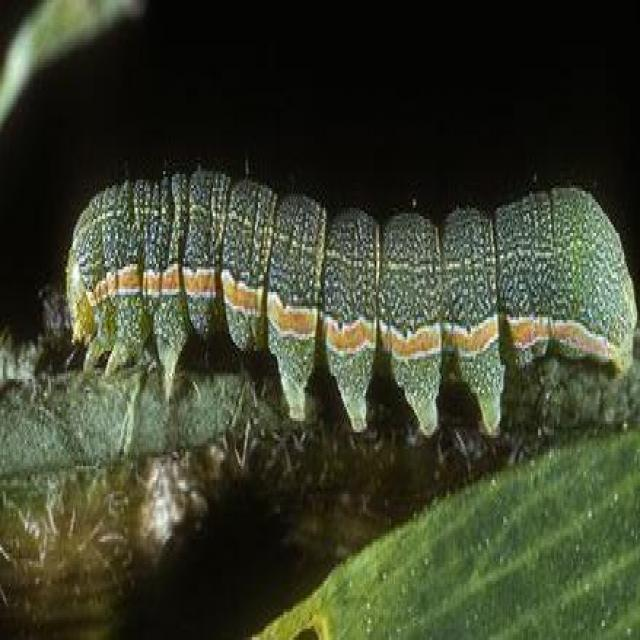BeetArmyWorm-Larva-: (36, 121, 632, 449)
